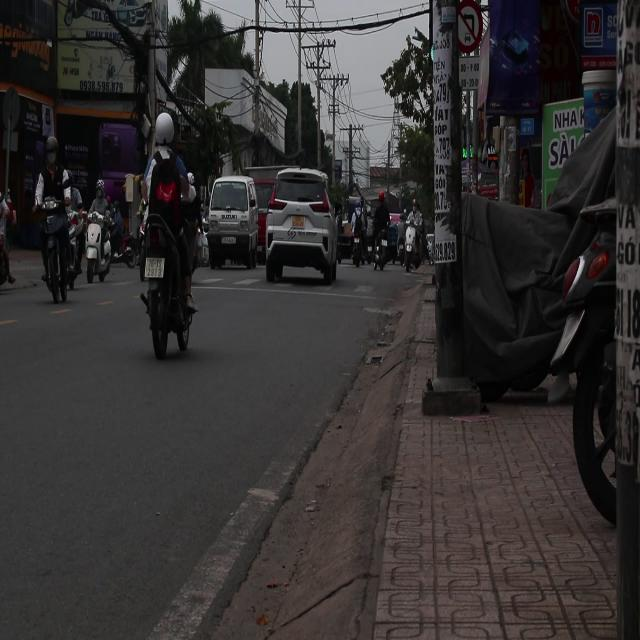car: (260, 166, 342, 285)
motorbike: (139, 210, 199, 361), (37, 190, 79, 310), (78, 207, 112, 286), (379, 224, 403, 272)
truck: (206, 176, 264, 270)
